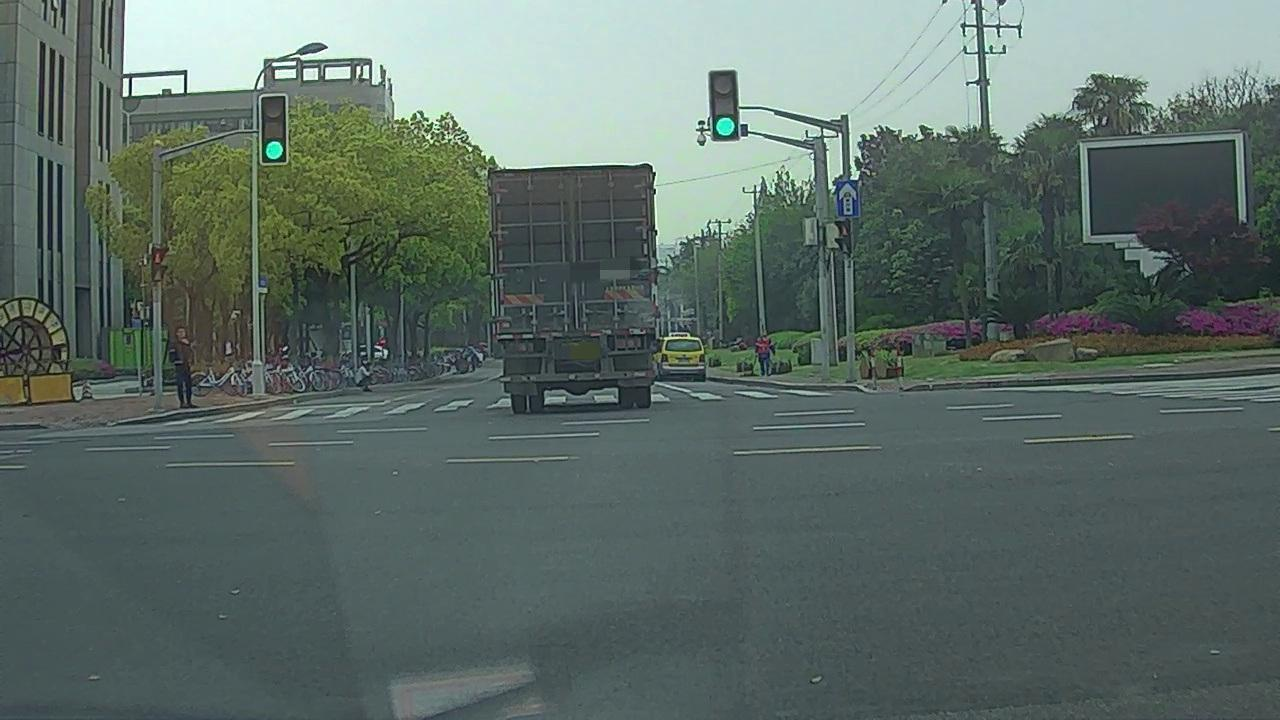traffic_light: (711, 72, 739, 141), (260, 96, 287, 164)
